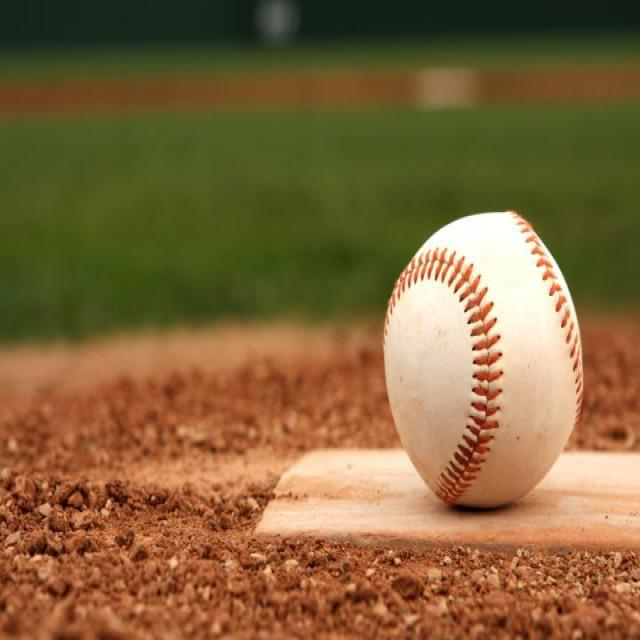baseball: (382, 208, 584, 508)
